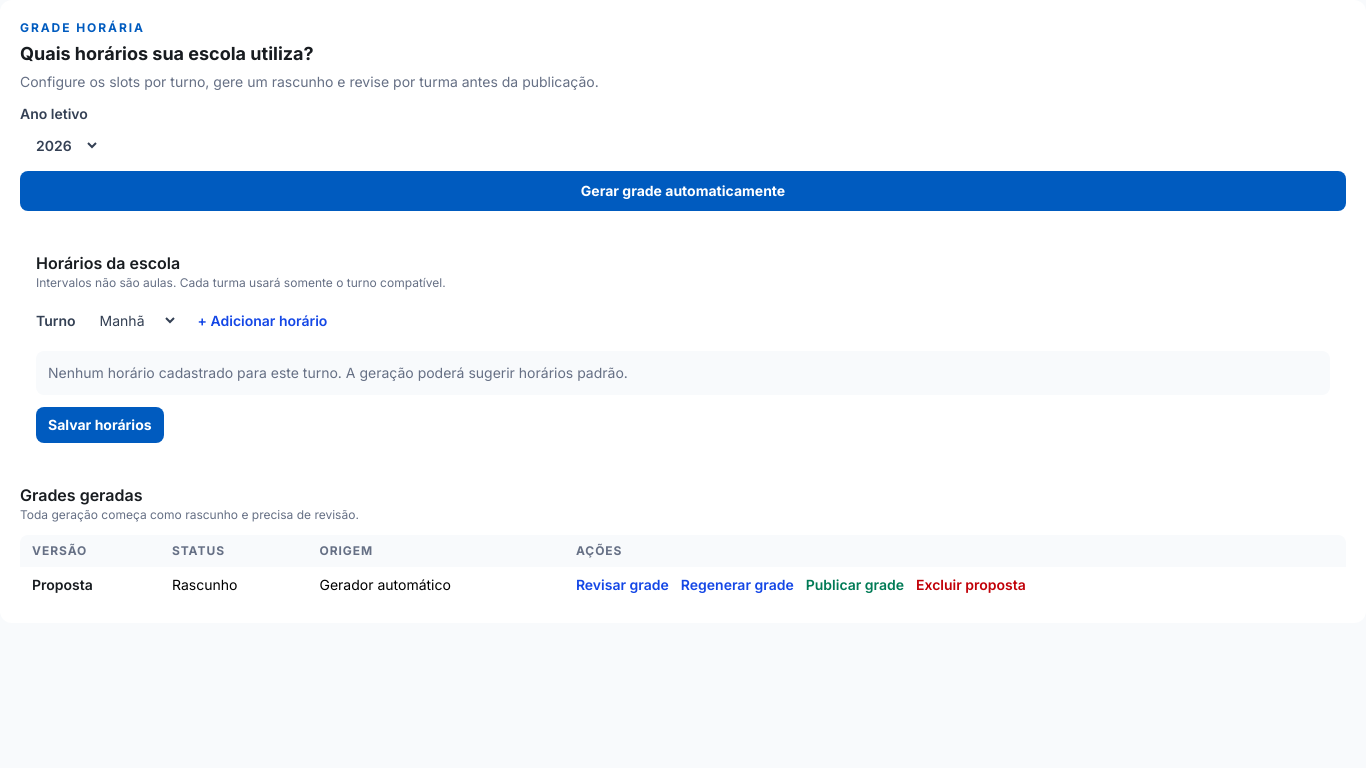
it: TimetableAutomationPanel › exibe intervalos configurados na revisão sem tratá-los como aulas
What coordinates should you click on to do the following:
click the button "Revisar grade"
I would click on:
 (622, 585)
Its box is x1=576 y1=575 x2=669 y2=595.
(page scrolled)
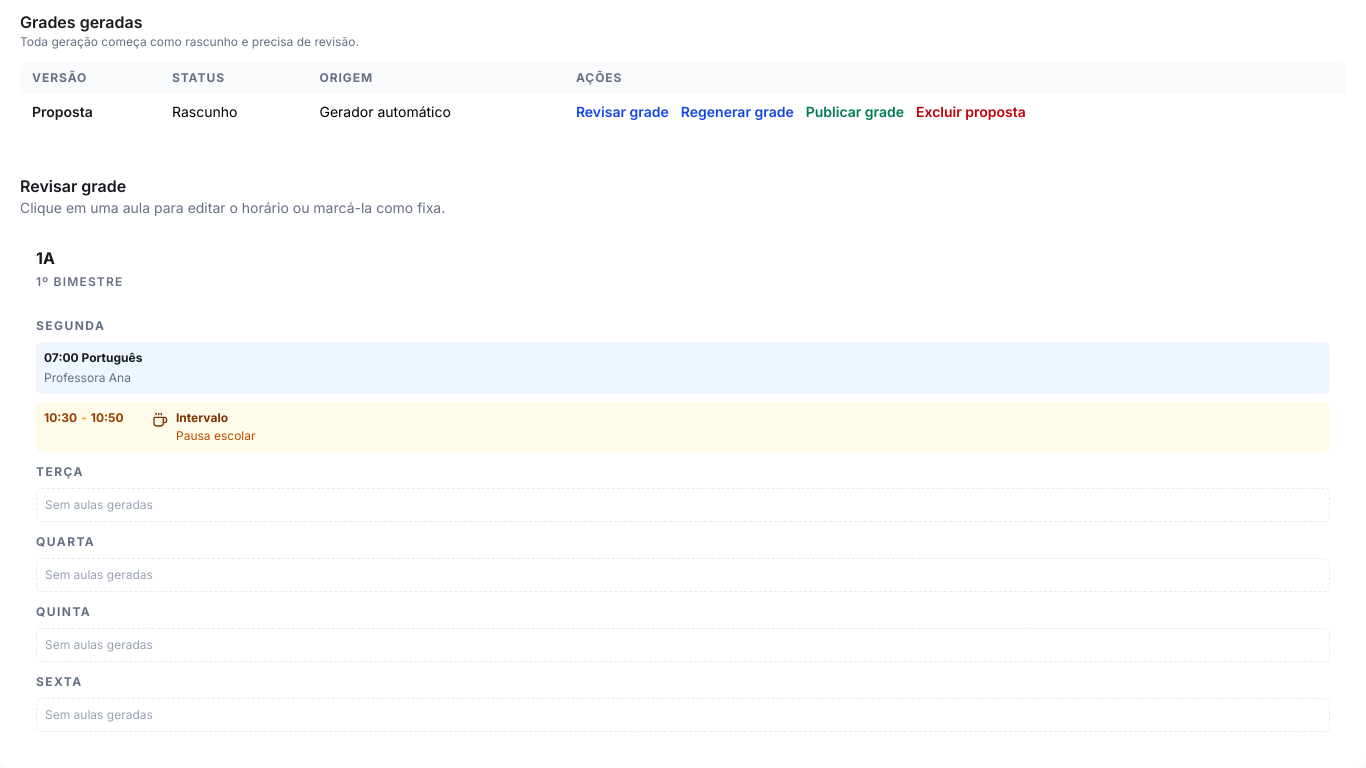
Expected: the element with test id "timetable-break" is shown, x1=36 y1=402 x2=1330 y2=452
Expected: the text "Intervalo" is shown, x1=176 y1=410 x2=228 y2=425
Expected: the text "Pausa escolar" is shown, x1=176 y1=428 x2=256 y2=444
